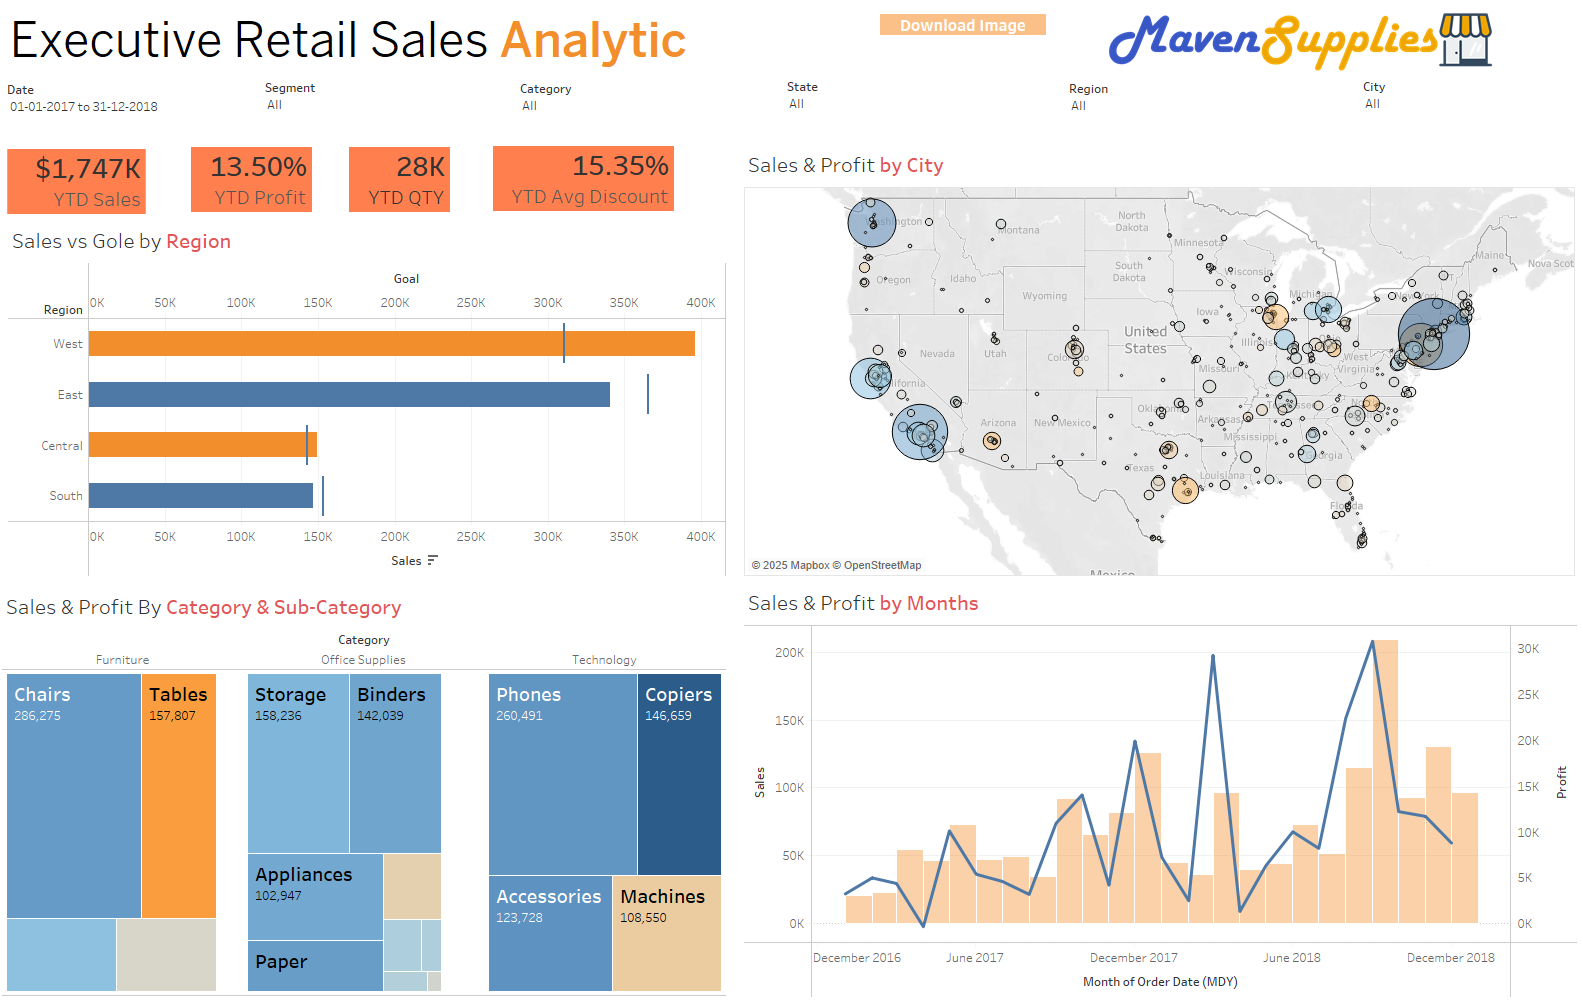

What the dashboard file says about the page in this screenshot:
{"tool":"tableau","page":{"name":"Dashboard 1","canvas":[1000,1000],"units":"permille","ordinal":0},"visuals":[{"type":"text","box":[4.3,9,538.8,61]},{"type":"dashboard-object","box":[568.7,15,104.5,21]},{"type":"filter","title":"Sales VS Goal Barchart","param":"[federated.1j9t9gc0msrhjy1bs79ui09lo2mw].[none:State:nk]","box":[497.4,77,120.9,54]},{"type":"filter","title":"Sales VS Goal Barchart","param":"[federated.1j9t9gc0msrhjy1bs79ui09lo2mw].[none:City:nk]","box":[860.9,77,120.9,52]},{"type":"filter","title":"Sales VS Goal Barchart","param":"[federated.1j9t9gc0msrhjy1bs79ui09lo2mw].[none:Segment:nk]","box":[167.5,78,120.2,51]},{"type":"filter","title":"Sales VS Goal Barchart","param":"[federated.1j9t9gc0msrhjy1bs79ui09lo2mw].[none:Category:nk]","box":[328.5,79,120.2,56]},{"type":"filter","title":"Sales VS Goal Barchart","param":"[federated.1j9t9gc0msrhjy1bs79ui09lo2mw].[none:Region:nk]","box":[675.2,79,121.6,50]},{"type":"filter","title":"Map Sales & Profit","param":"[federated.1j9t9gc0msrhjy1bs79ui09lo2mw].[none:Order Date (MDY):qk]","box":[4.4,80,112.2,48]},{"type":"worksheet","title":"YTD Sales","mark":"Automatic","box":[3.1,135,96.5,82]},{"type":"worksheet","title":"YTD Profit","mark":"Automatic","box":[113.6,137,89.8,78]},{"type":"worksheet","title":"YTD QTY","mark":"Automatic","box":[221.1,139,85.5,78]},{"type":"worksheet","title":"YTD Avg Discount","mark":"Automatic","box":[318.3,139,131.9,77]},{"type":"worksheet","title":"Map Sales & Profit","mark":"Automatic","box":[469.8,144,525.1,432]},{"type":"worksheet","title":"Sales VS Goal Barchart","mark":"Bar","rows":["Region"],"cols":["Sales","Goal"],"box":[5.1,220,453.8,357]},{"type":"worksheet","title":"S & P by Months","mark":"Automatic","rows":["Sales","Profit"],"cols":["Order Date (MDY)"],"box":[469.8,582,526.6,416]},{"type":"worksheet","title":"Tree Map","mark":"Automatic","cols":["Category"],"box":[1.5,586,457.4,410]}]}

Visuals, with their boxes on the dashboard's canvas, which has no fixed pixel size, in thousandths of its width and height (x1, y1, x2, y2). These are canvas units, not pixel positions in the 1583x1000 screenshot, which may show the page scaled, cropped or inside an application window:
text: 4,9,543,70
dashboard-object: 569,15,673,36
"Sales VS Goal Barchart" filter: 497,77,618,131
"Sales VS Goal Barchart" filter: 861,77,982,129
"Sales VS Goal Barchart" filter: 168,78,288,129
"Sales VS Goal Barchart" filter: 328,79,449,135
"Sales VS Goal Barchart" filter: 675,79,797,129
"Map Sales & Profit" filter: 4,80,117,128
"YTD Sales" worksheet: 3,135,100,217
"YTD Profit" worksheet: 114,137,203,215
"YTD QTY" worksheet: 221,139,307,217
"YTD Avg Discount" worksheet: 318,139,450,216
"Map Sales & Profit" worksheet: 470,144,995,576
"Sales VS Goal Barchart" worksheet (Bar marks): 5,220,459,577
"S & P by Months" worksheet: 470,582,996,998
"Tree Map" worksheet: 2,586,459,996
